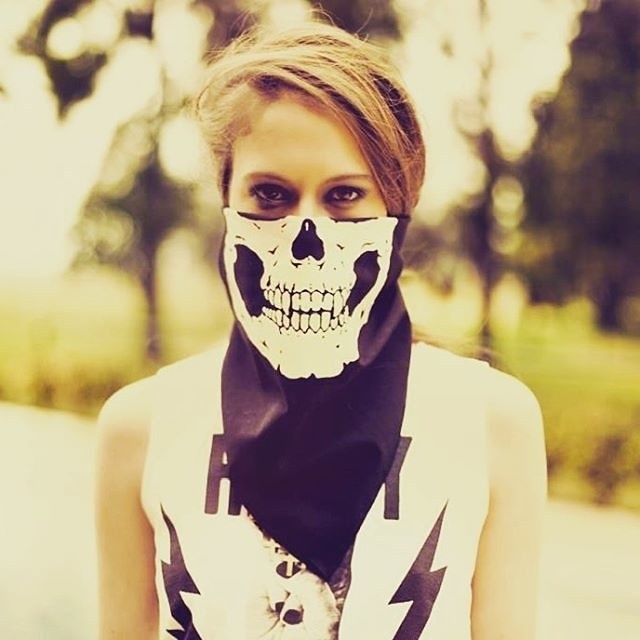face_with_mask: (225, 63, 404, 315)
